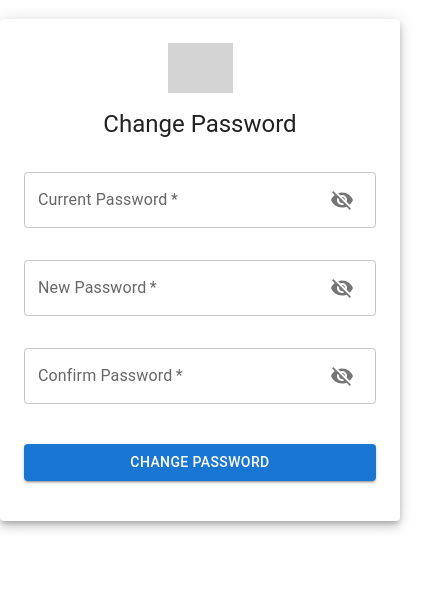
Scenario: ChangePasswordPage › shows error if new password and confirm password do not match
Type "oldpass123" into the password field labelled "Current Password *".
click(169, 200); type("oldpass123")  # box top-left (24, 172), bottom-right (314, 228)
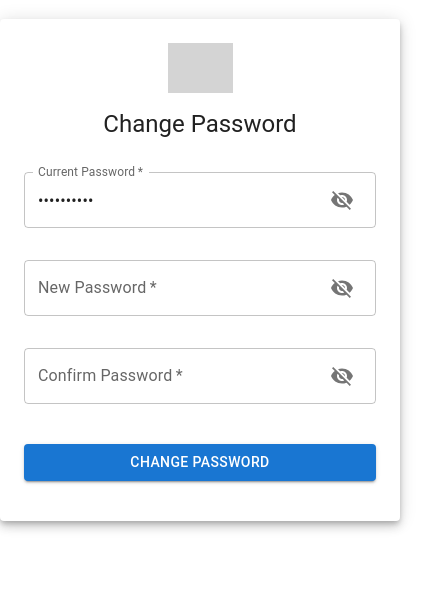
Type "newpass123" into the password field labelled "New Password *".
click(169, 288); type("newpass123")  # box top-left (24, 260), bottom-right (314, 316)
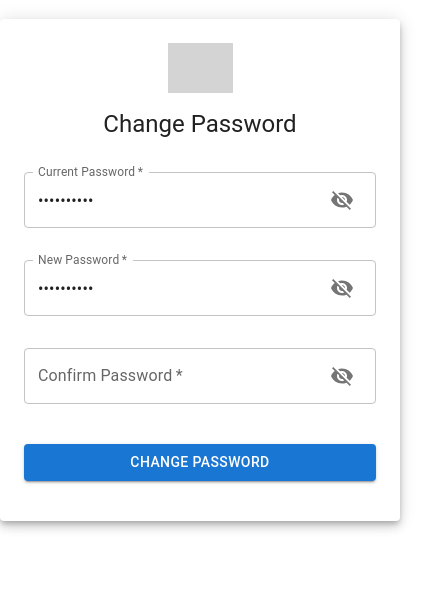
Type "differentpass" into the password field labelled "Confirm Password *".
click(169, 376); type("differentpass")  # box top-left (24, 348), bottom-right (314, 404)
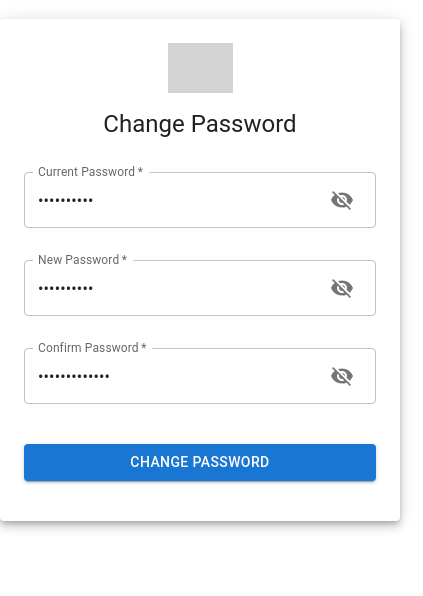
Click the button "Change Password".
click(200, 462)  # box top-left (24, 444), bottom-right (376, 480)
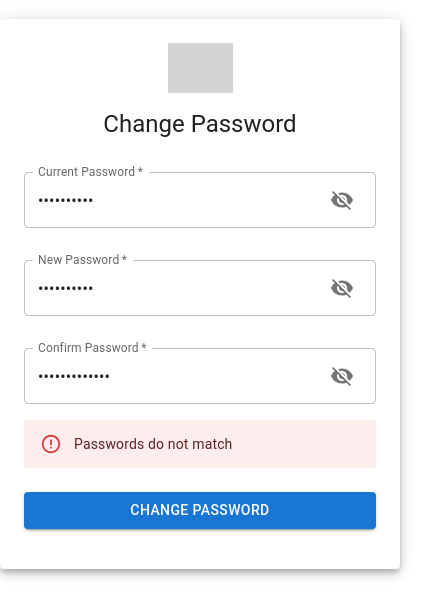
expect the text "Passwords do not match" is shown: met, box top-left (74, 436), bottom-right (232, 452)
